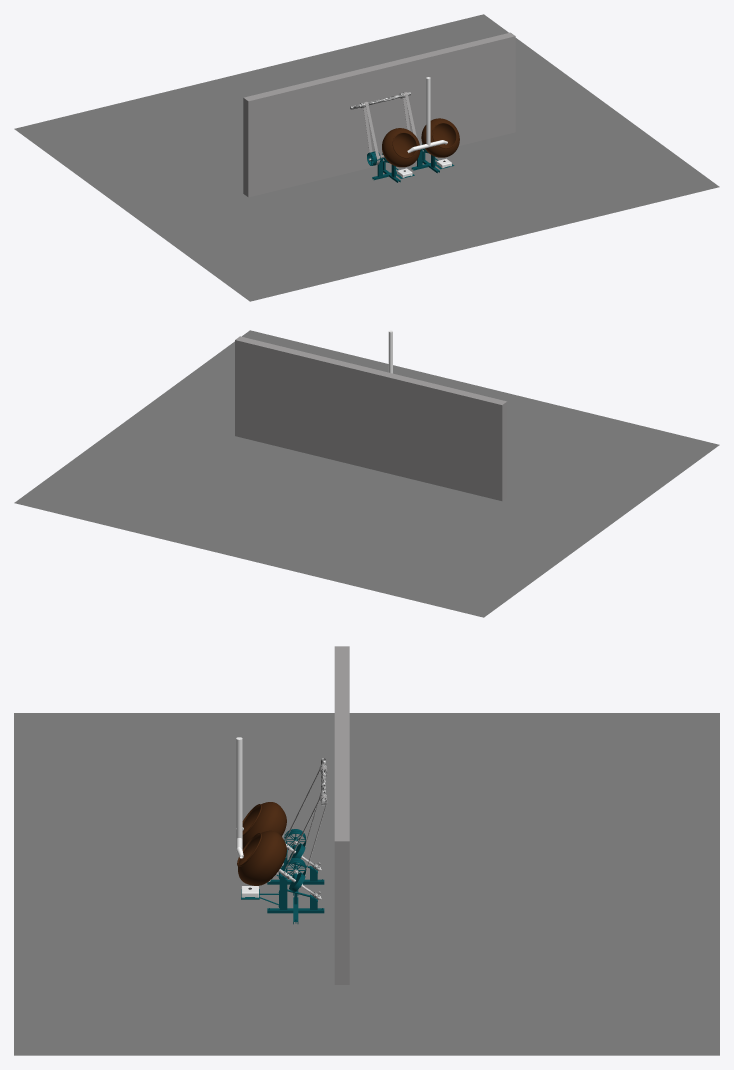
The model's file is koufetieres-.fbx.
3 views of the same model, one above another, from view 1: azimuth 30°, elevation 25°; view 2: azimuth 150°, elevation 25°; view 3: azimuth 270°, elevation 25° (orthographic). The views are drawn at different scales.
Visible parts, largest first — view 1: Object_296, Object_1, kinoumena merh; view 2: Object_296, Object_1; view 3: Object_296, Object_1, kinoumena merh, Object_286.
Part boxes in pixels (box(x1,y1,x2,y2)): Object_296: box(14, 14, 719, 301); Object_1: box(243, 32, 515, 197); kinoumena merh: box(382, 118, 459, 167); Object_296: box(14, 330, 719, 617); Object_1: box(235, 336, 507, 500); Object_296: box(14, 713, 719, 1055); Object_1: box(334, 646, 349, 984); kinoumena merh: box(237, 802, 321, 899); Object_286: box(236, 737, 242, 838).
Size of the model in its own units: 12.86 by 11.19 by 2.79.
8 materials, 2 textured.
